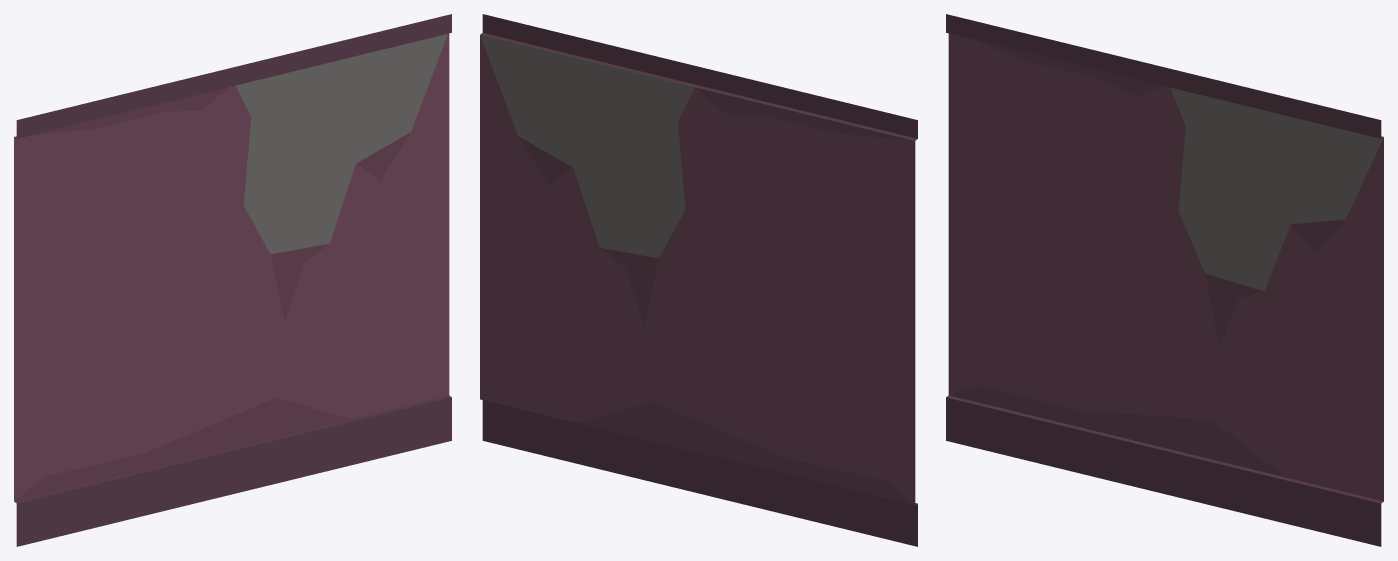
File: AI_Env_Wall_Pink_TornWallpaper_02.fbx
3 renders of one model, left to right at view 1: azimuth 30°, elevation 25°; view 2: azimuth 150°, elevation 25°; view 3: azimuth 330°, elevation 25°, orthographic.
Visible parts, largest first — view 1: AI_Env_Wall_Pink_TornWallpaper_02; view 2: AI_Env_Wall_Pink_TornWallpaper_02; view 3: AI_Env_Wall_Pink_TornWallpaper_02.
Boxes of the visible parts, x1,y1,x2,y2 form: AI_Env_Wall_Pink_TornWallpaper_02: (14,14,451,546); AI_Env_Wall_Pink_TornWallpaper_02: (480,14,917,546); AI_Env_Wall_Pink_TornWallpaper_02: (946,14,1383,546).
Bounding box in the file's own units: 5 × 4.69 × 0.0549.
